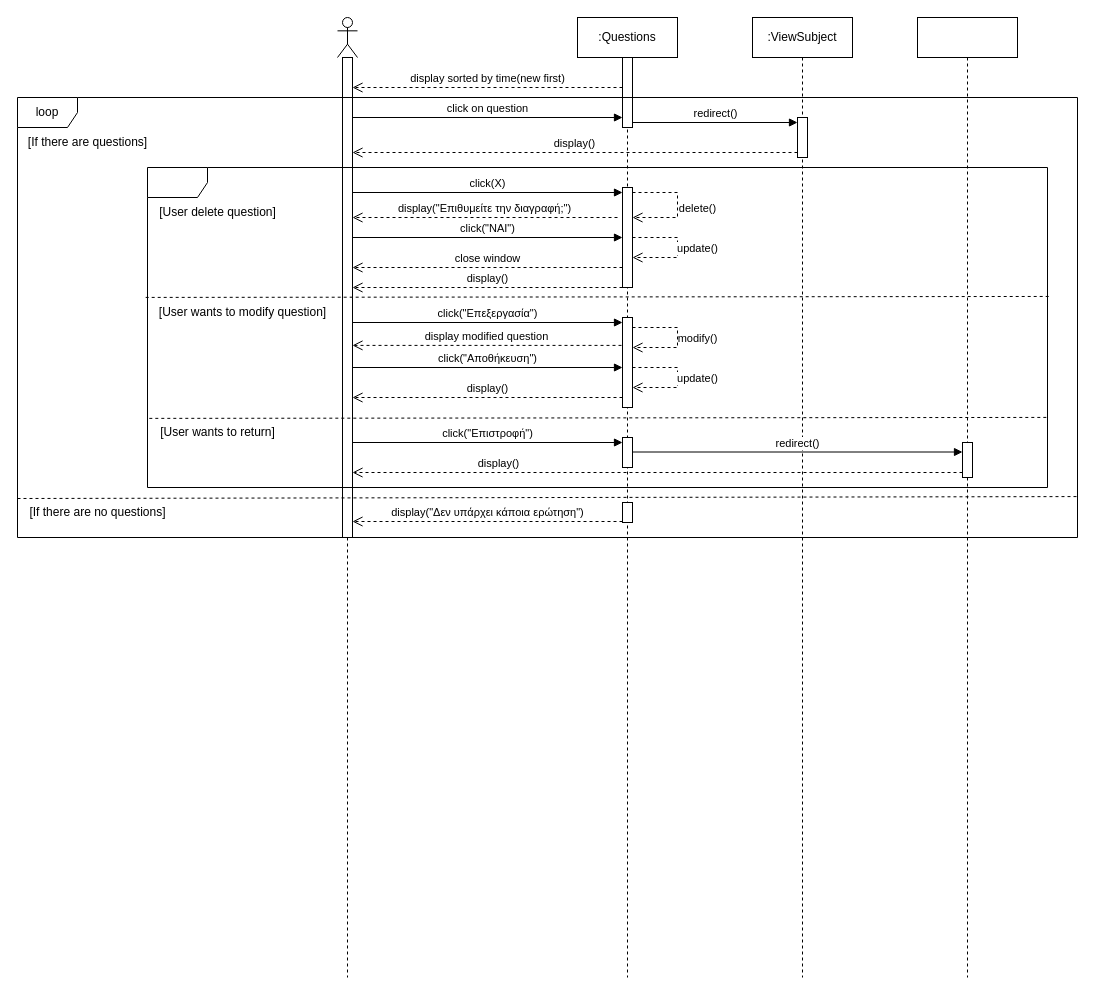
The diagram is 1096 pixels wide and 995 high, and some of its shapes have lost their labels. Here are the shapes that lost their labels. From the top down, the box of each, then its label:
(146, 166, 1048, 488): alt
(916, 16, 1018, 978): :MainMenu
